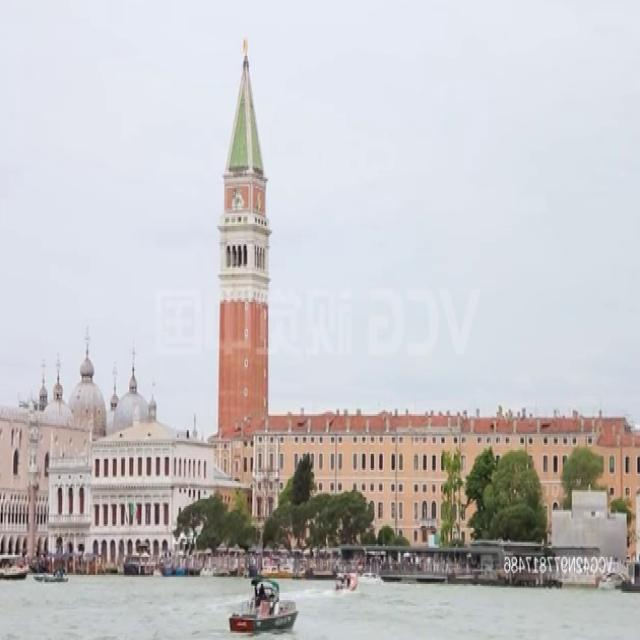houseboat: (230, 576, 298, 636), (0, 547, 32, 580), (34, 565, 68, 586), (336, 567, 358, 589)
